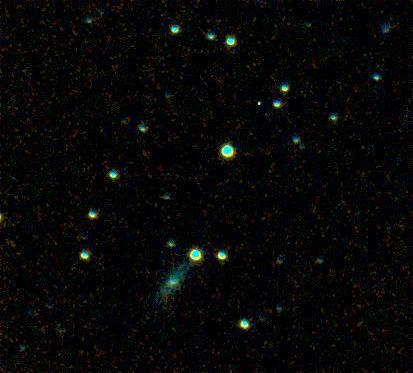star: (244, 87, 274, 117)
